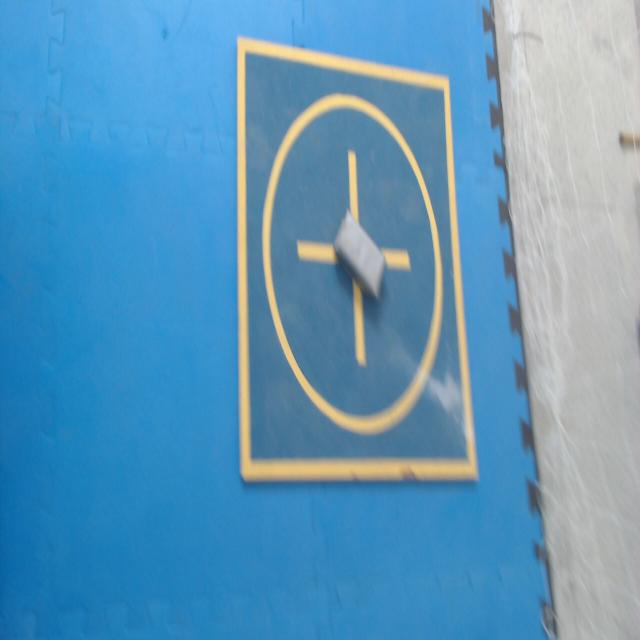esquerda: (334, 209, 386, 299)
